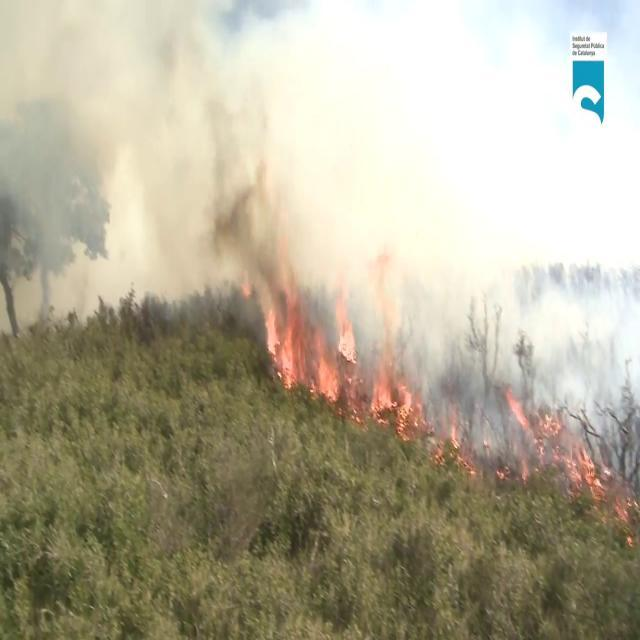Fire: (259, 266, 359, 414), (502, 377, 560, 475), (368, 358, 428, 444)
Smoke: (338, 25, 640, 480), (0, 0, 306, 316)
